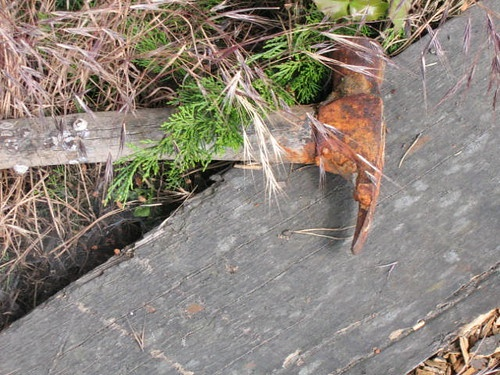hammer: (6, 34, 385, 254)
